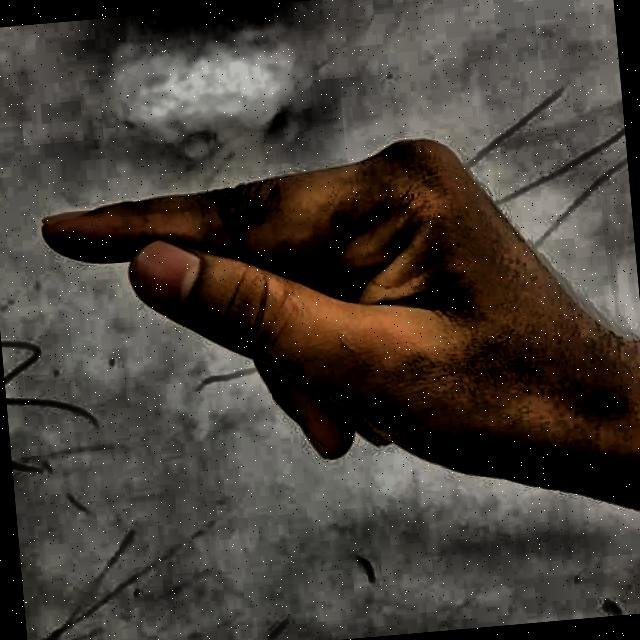Tha: (16, 95, 640, 586)
